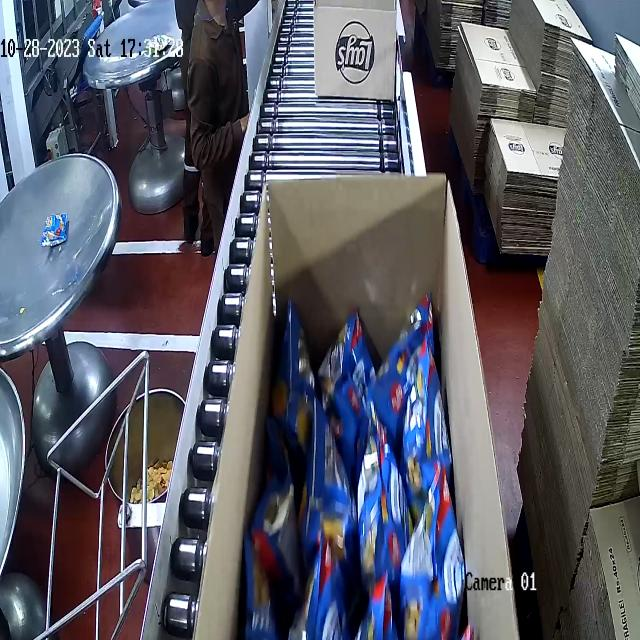PAPRIKA: (251, 311, 478, 640)
